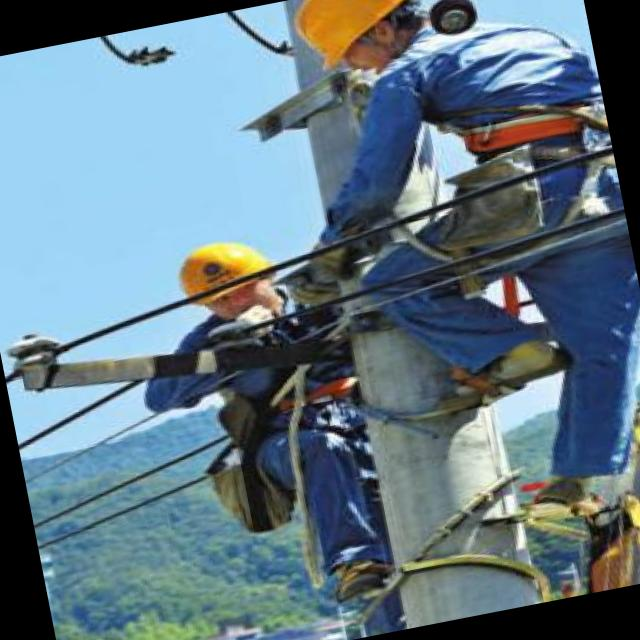helmet: (158, 225, 292, 336), (285, 0, 444, 89)
